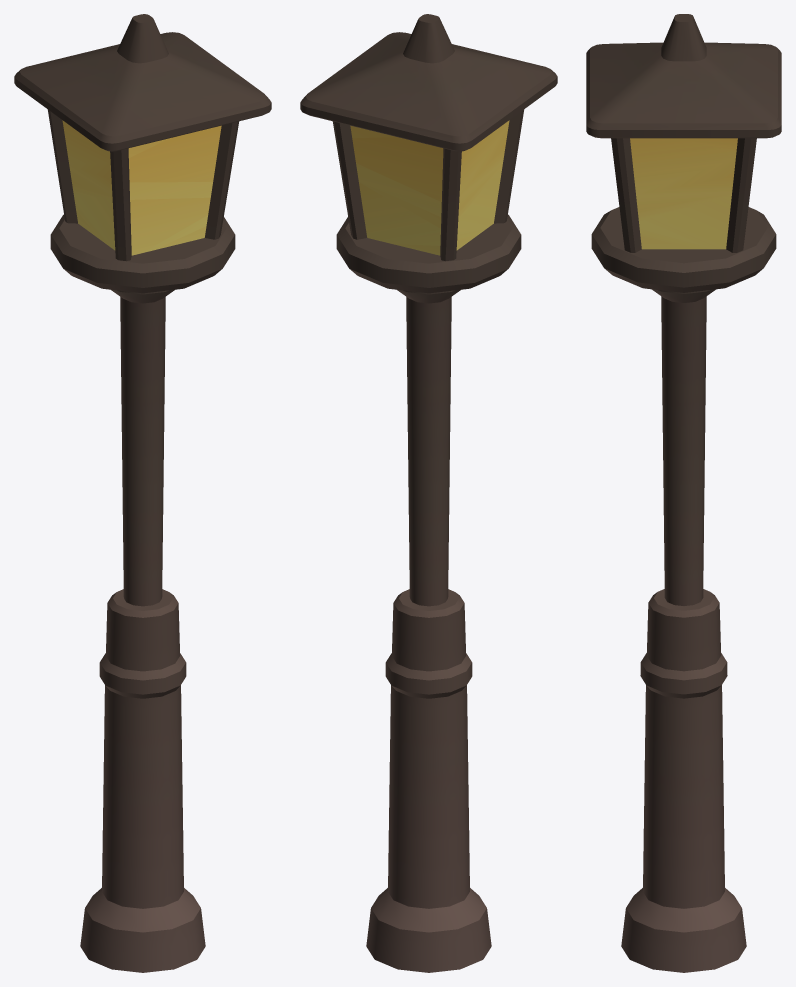
File: Lamp_1_3.glb
3 views of the same model, side by side, from view 1: azimuth 30°, elevation 25°; view 2: azimuth 150°, elevation 25°; view 3: azimuth 270°, elevation 25° (orthographic).
Visible parts, largest first — view 1: Lamp_1_3; view 2: Lamp_1_3; view 3: Lamp_1_3.
Part boxes in pixels (bbox=[...]): Lamp_1_3: bbox=[14, 14, 271, 972]; Lamp_1_3: bbox=[300, 14, 557, 972]; Lamp_1_3: bbox=[586, 14, 781, 972].
Size of the model in its own units: 0.6015 by 3.15 by 0.6015.
2 materials, 2 textured.
